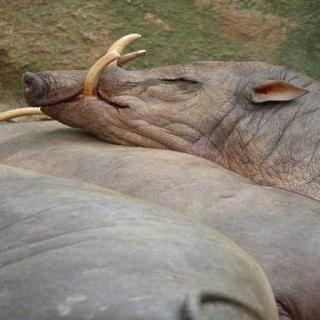Pig: (17, 23, 320, 198)
